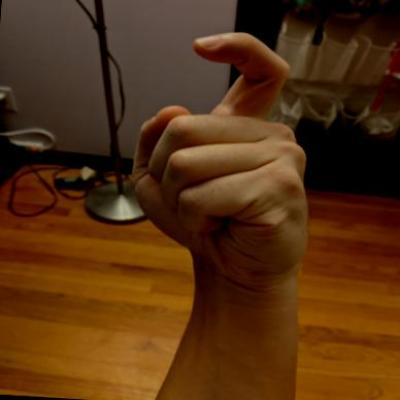hand: (119, 21, 329, 284)
